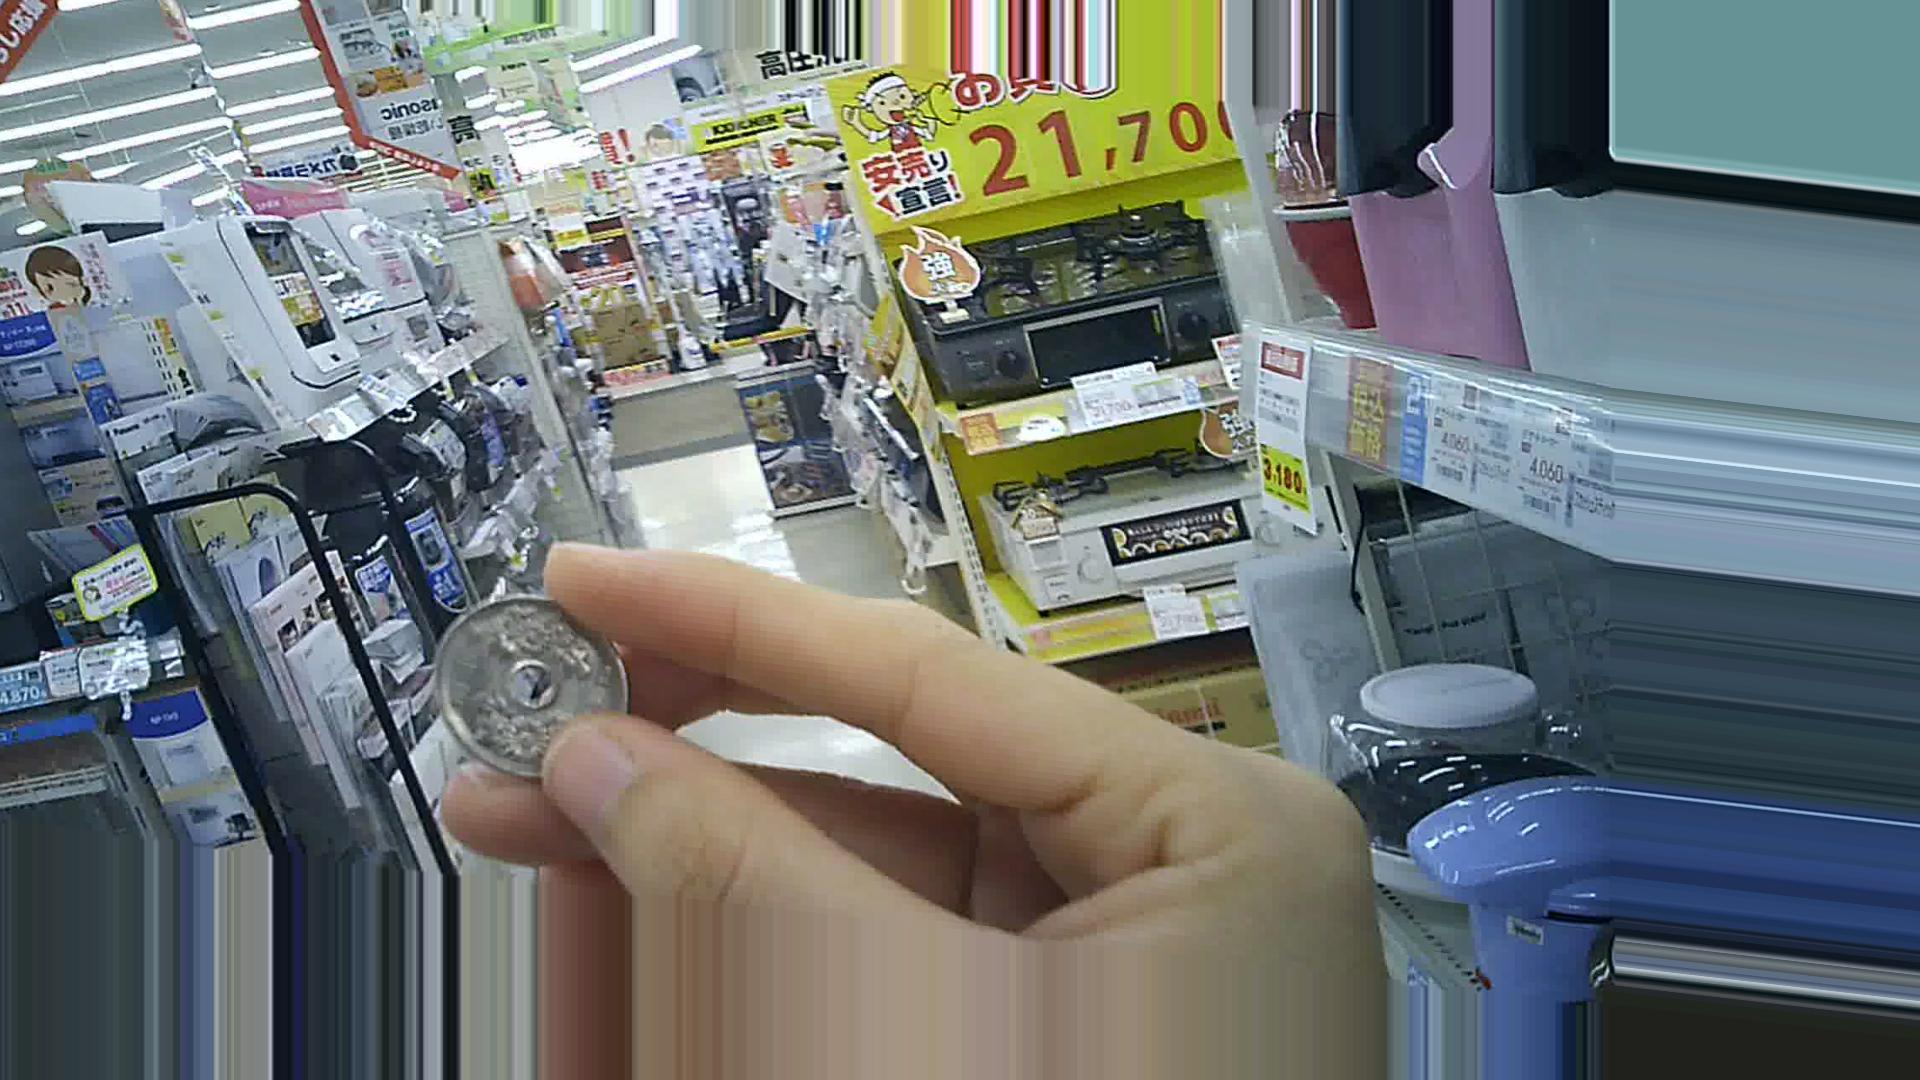50 Yen: (419, 582, 628, 782)
